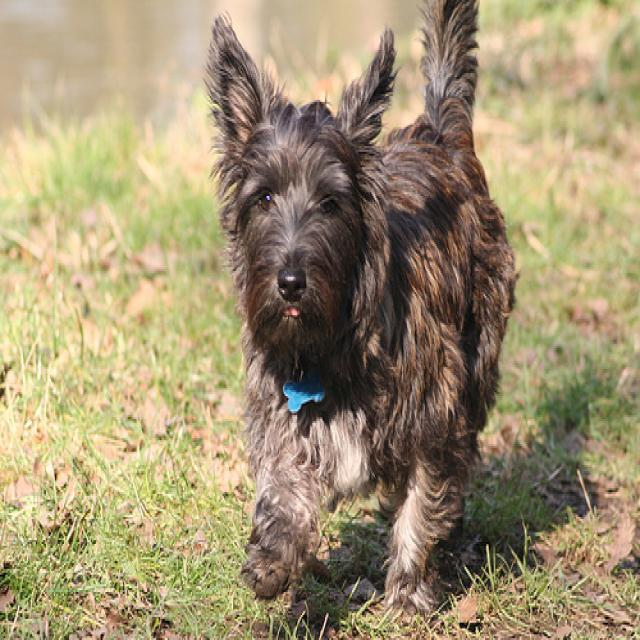dog-scottish_terrier: (201, 2, 516, 613)
